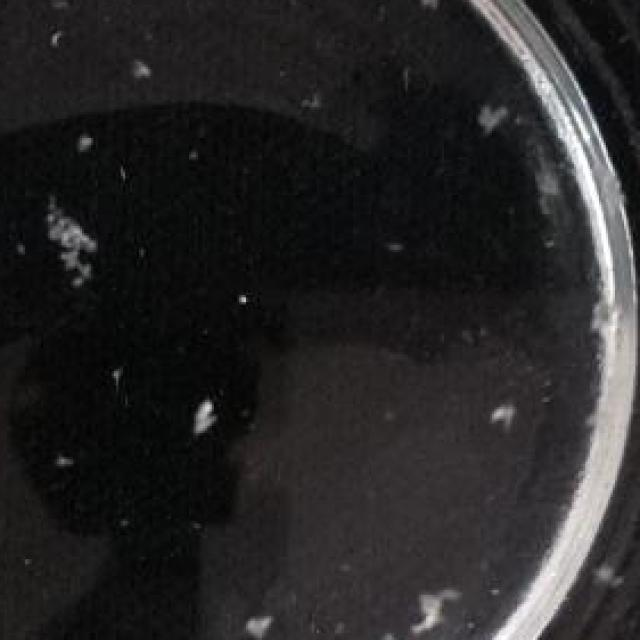Microplastic: (519, 133, 583, 274), (41, 190, 112, 295), (337, 585, 472, 640), (474, 83, 524, 143), (587, 554, 640, 599), (474, 395, 524, 440), (242, 590, 280, 640), (71, 114, 107, 155), (126, 52, 166, 88), (189, 383, 214, 440), (48, 19, 70, 57)
